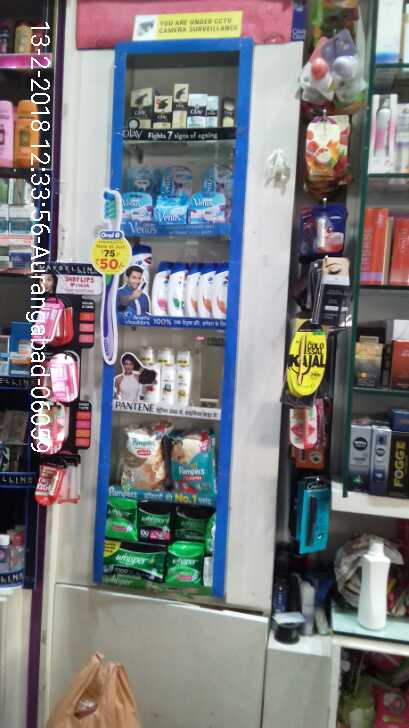venus: (162, 167, 195, 192), (122, 193, 151, 221), (188, 197, 224, 219), (209, 167, 237, 194), (157, 198, 183, 223), (125, 170, 157, 190)
